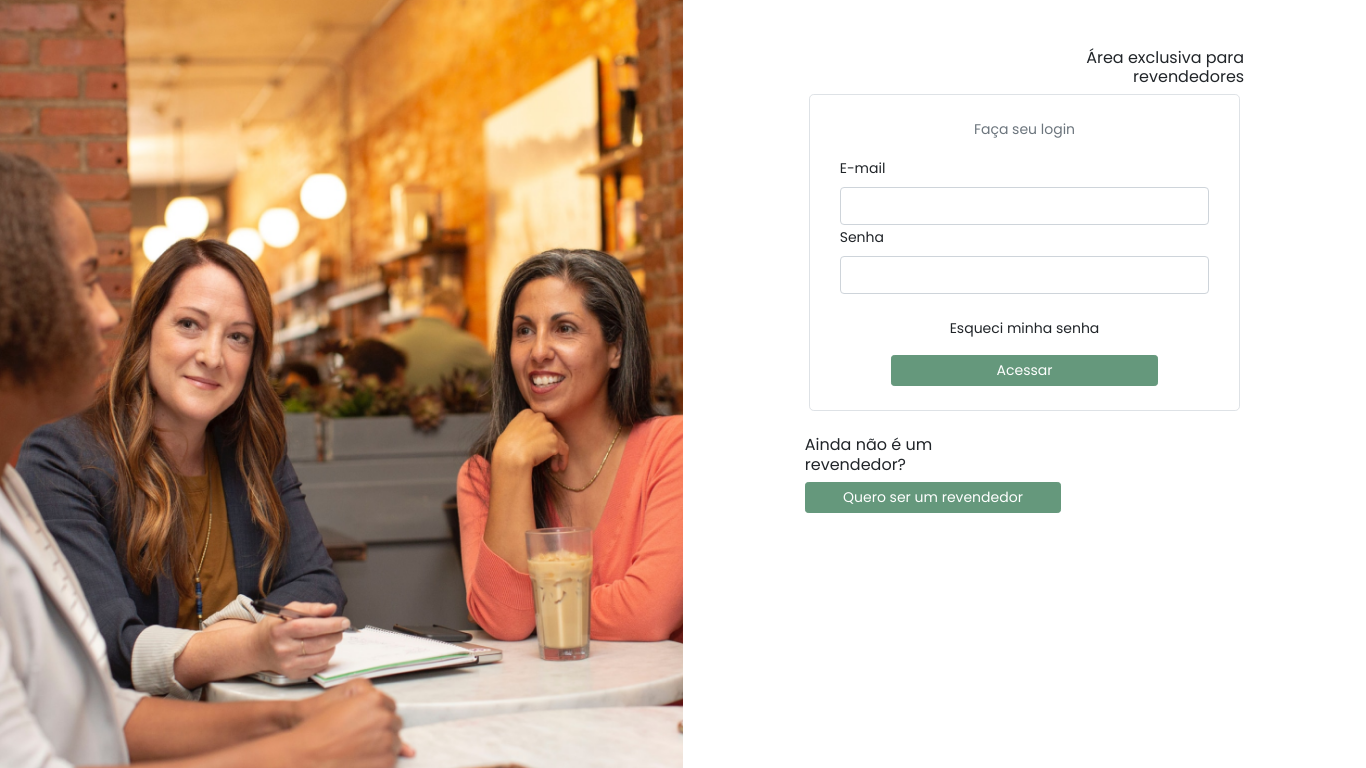
Test: Testando página de Login › Deve não conseguir efetuar login, sem preencher email
This screenshot has width=1366, height=768.
Type "123" into the password field with test id "LoginForm_Input_Password" at (1024, 275), box [840,256,1209,294]
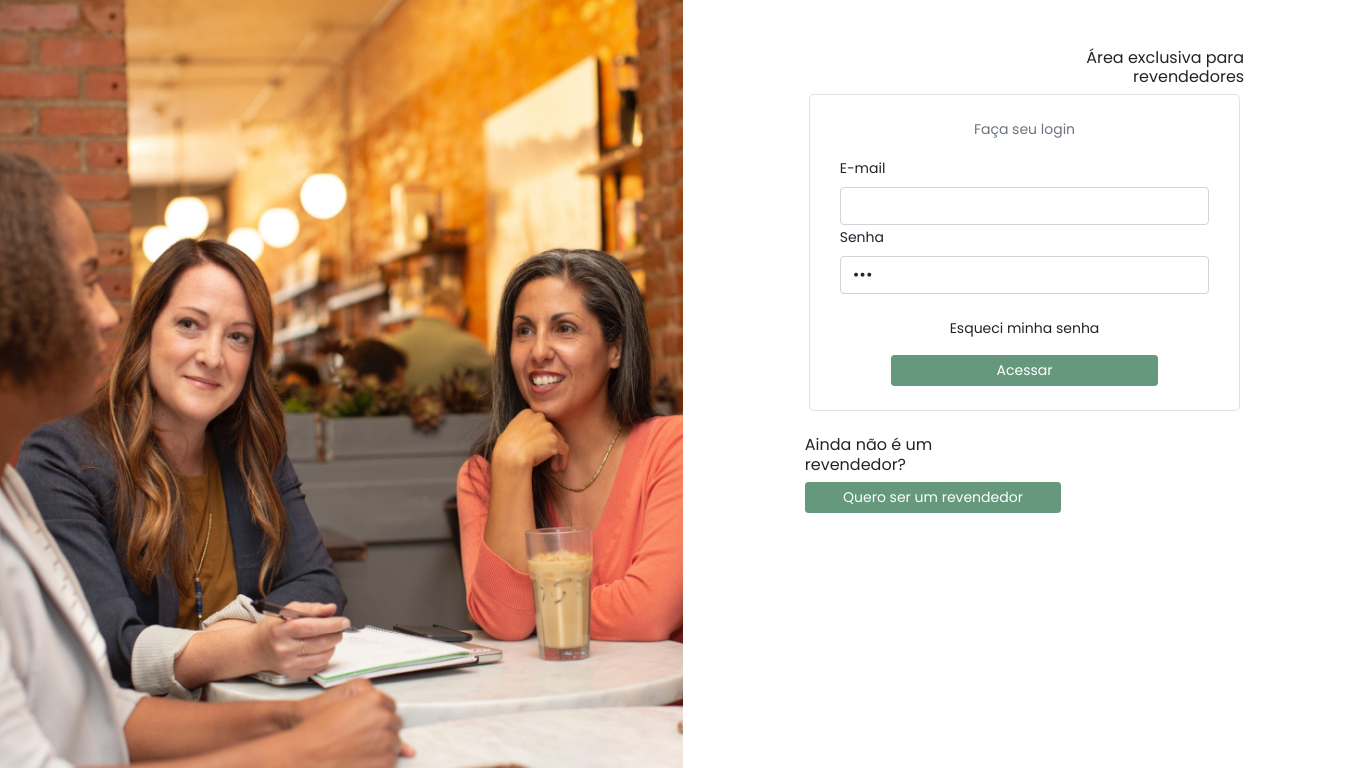
Submit the form from the button with test id "LoginForm_Button_Login", box [890,355,1158,386]
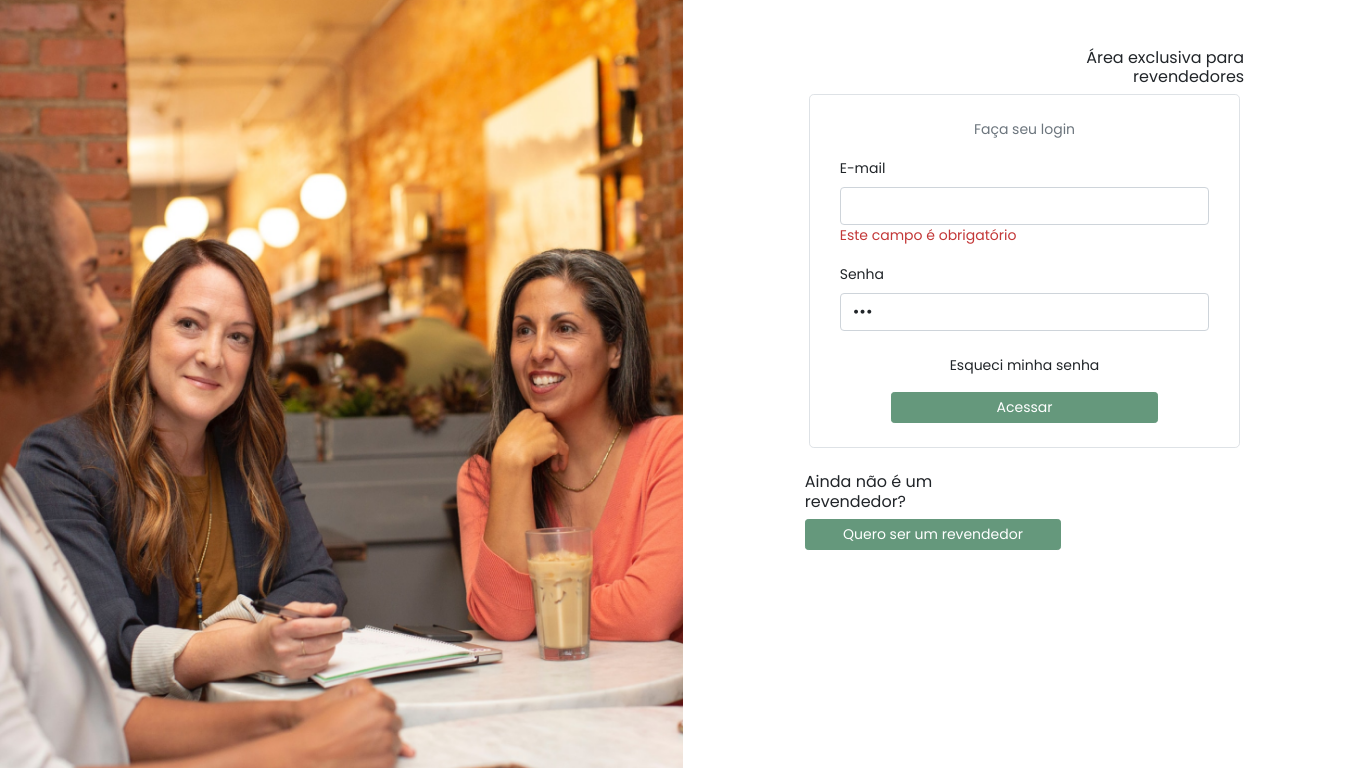
Expected: the field with test id "LoginForm_Input_Email" is empty, [840,187,1209,225]
Result: the text with test id "Input_ErrorMessage" reads "Este campo é obrigatório" at [840,225,1016,245]
